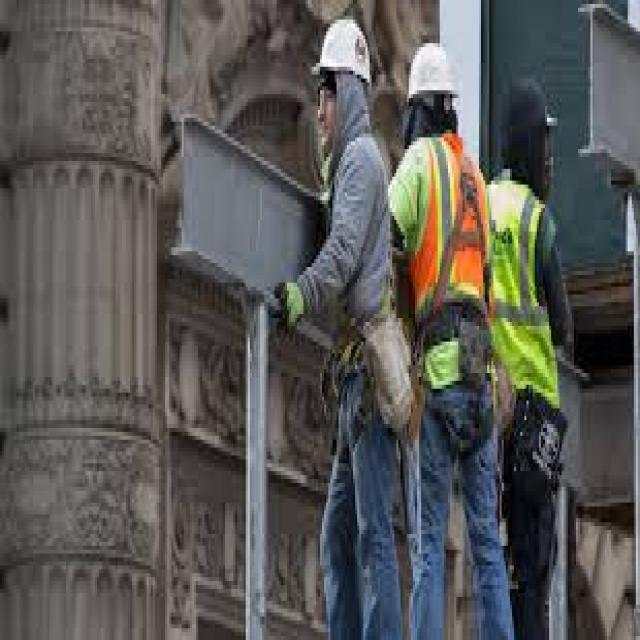Reflective-Jacket: (384, 126, 493, 404), (473, 169, 574, 432)
Safety-Helmet: (307, 8, 380, 98), (398, 31, 466, 118)
